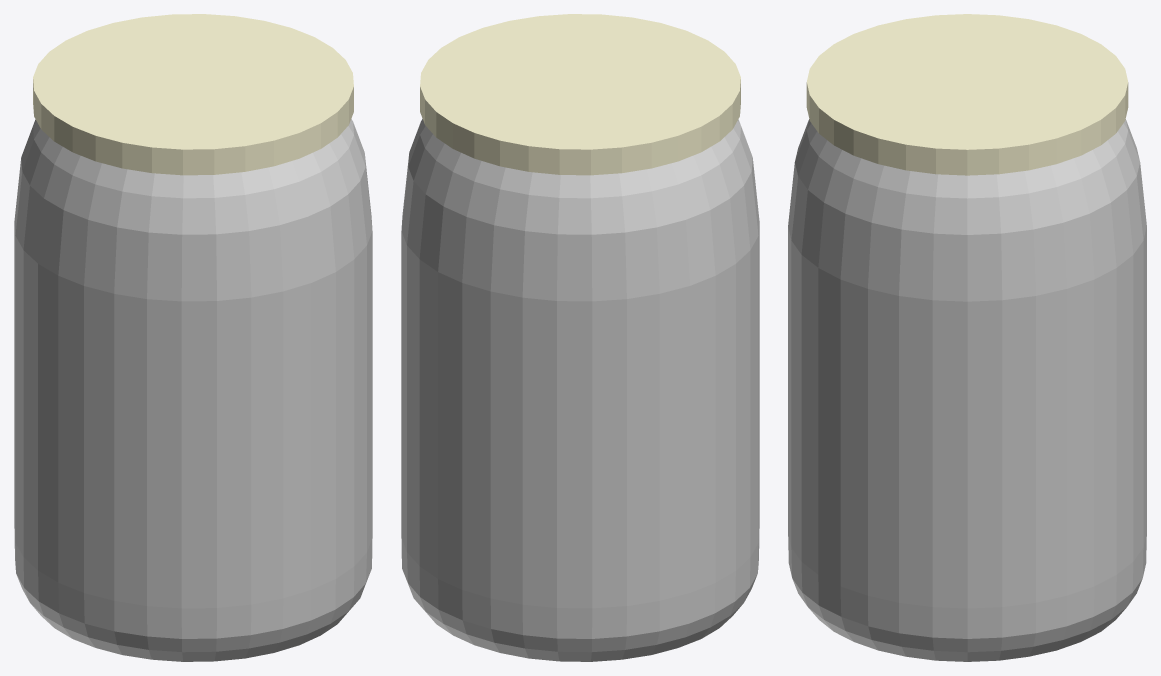
File: sugar-transformed.glb
3 renders of one model, left to right at view 1: azimuth 30°, elevation 25°; view 2: azimuth 150°, elevation 25°; view 3: azimuth 270°, elevation 25°, orthographic.
Visible parts, largest first — view 1: Cylinder.001; view 2: Cylinder.001; view 3: Cylinder.001.
Part boxes in pixels (bbox=[...]): Cylinder.001: bbox=[14, 14, 372, 661]; Cylinder.001: bbox=[401, 14, 759, 661]; Cylinder.001: bbox=[788, 14, 1146, 661].
Size of the model in its own units: 2.98 by 4.69 by 2.98.
